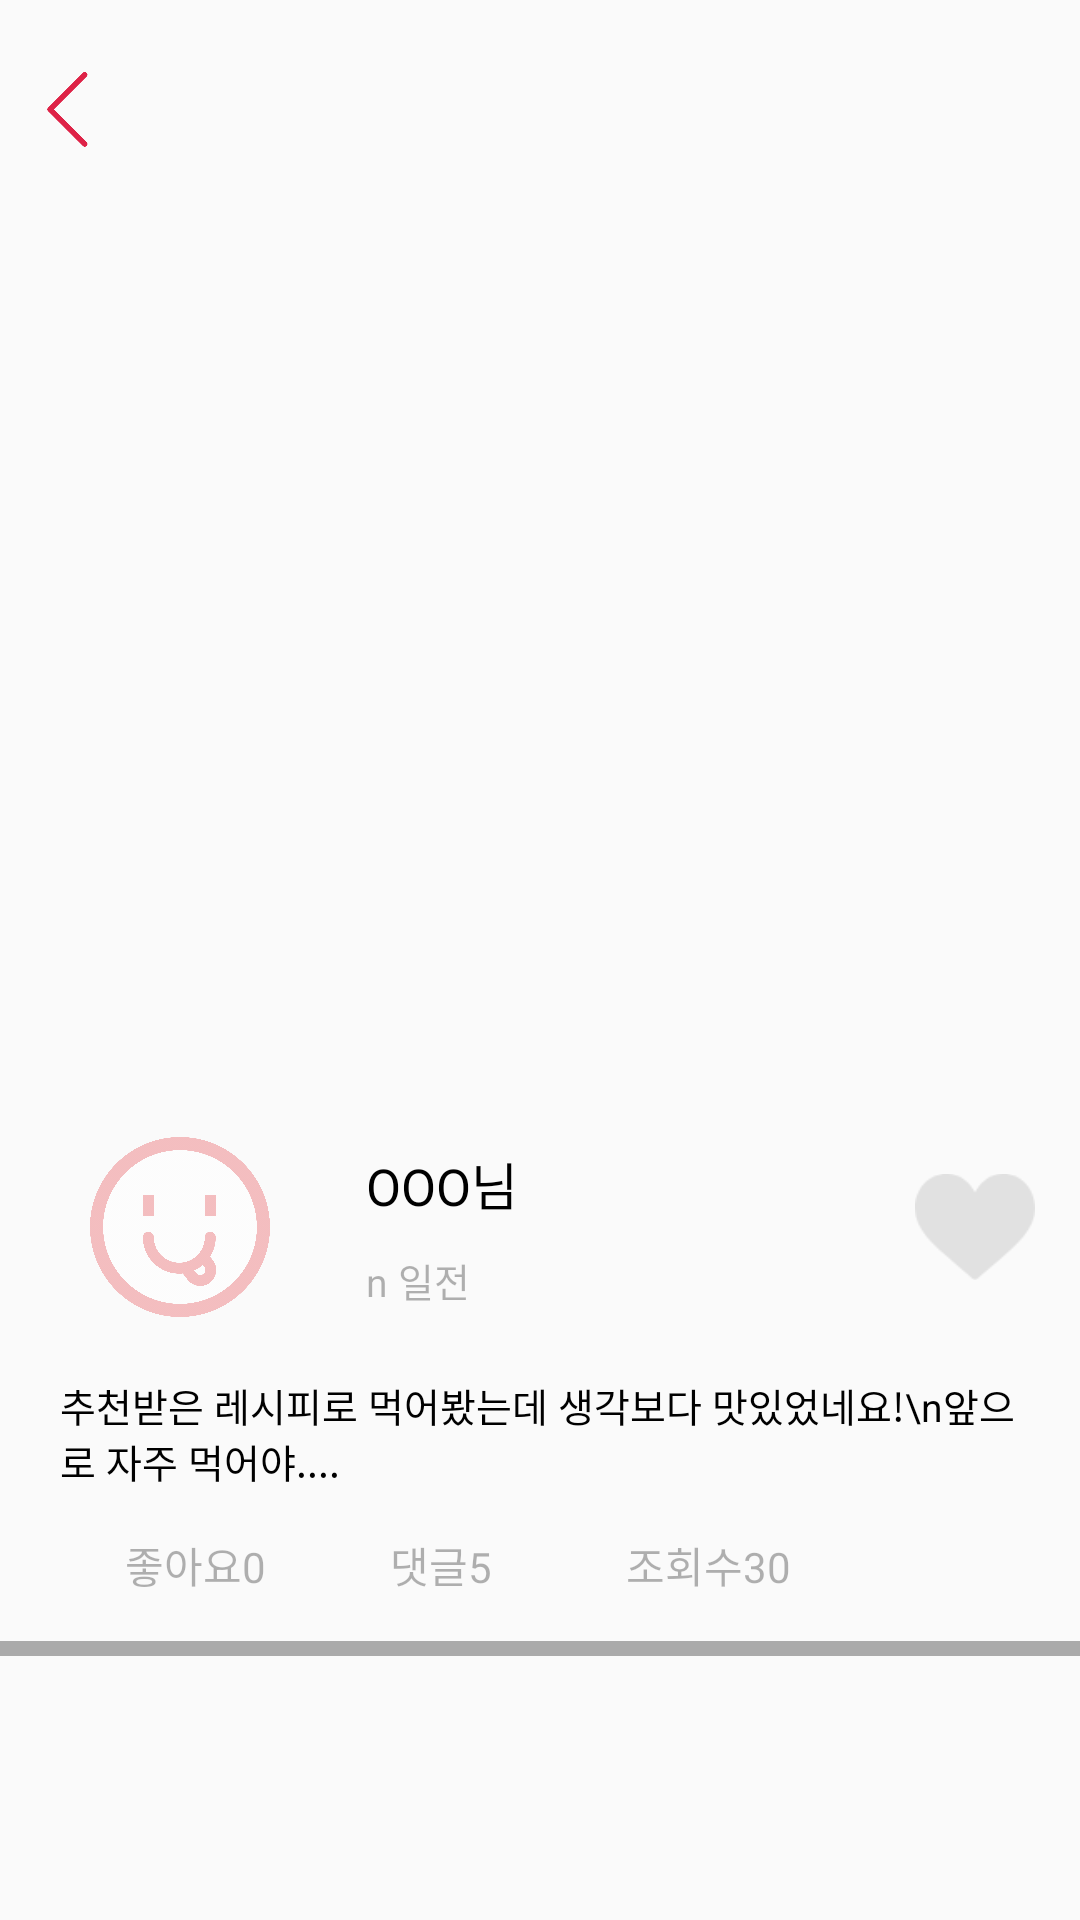

Point at icon controls on the screen. Image size 1080px×1920px, points as point (x, y).
back: point (67, 109)
post likebig: point (974, 1226)
